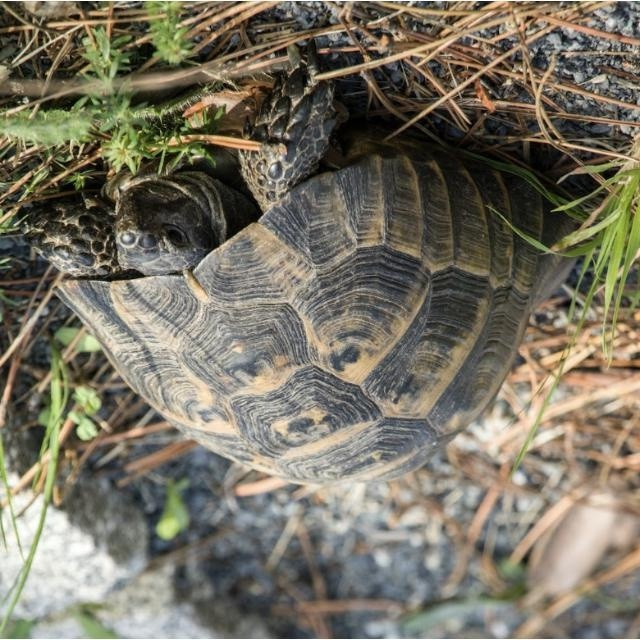turtle: (34, 66, 592, 486)
